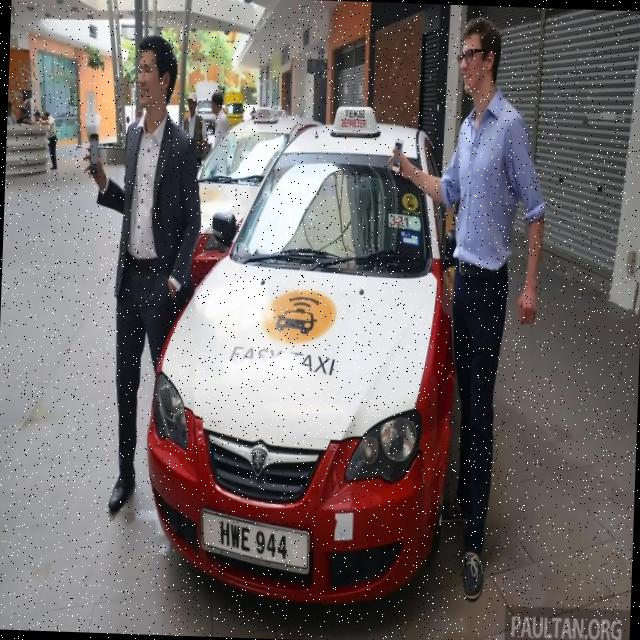License_Plate: (200, 508, 311, 577)
car: (143, 101, 473, 617)
